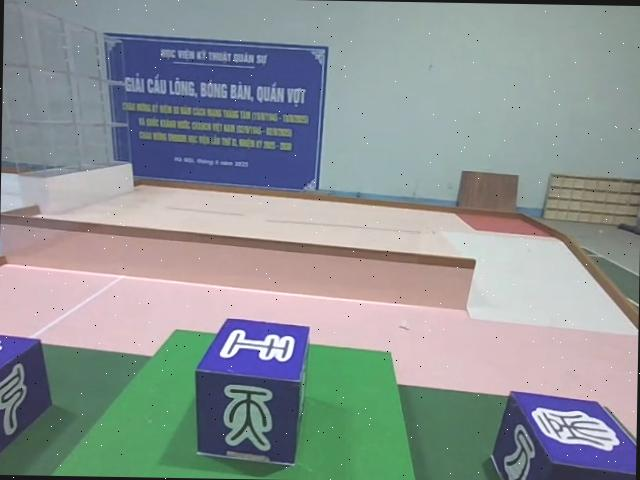R2 Fake Blue: (195, 316, 314, 467), (487, 390, 637, 480), (0, 336, 54, 475)
